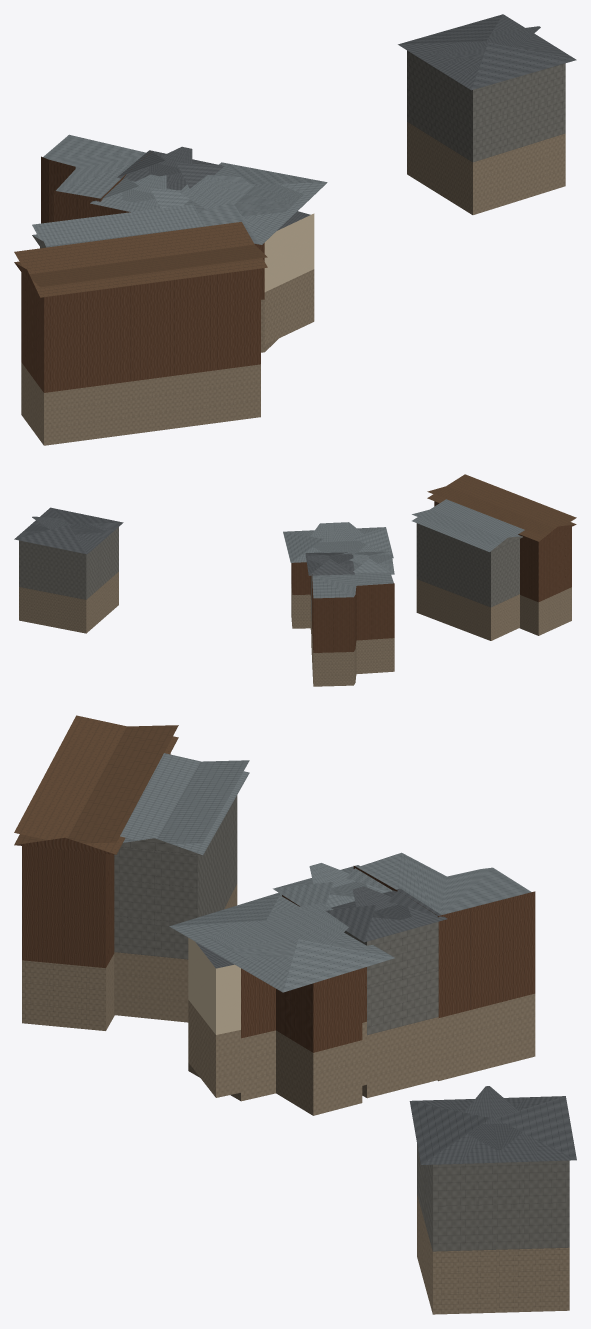
File: bld_c5_9_478.gltf
3 views of the same model, one above another, from view 1: azimuth 30°, elevation 25°; view 2: azimuth 150°, elevation 25°; view 3: azimuth 270°, elevation 25° (orthographic). The views are drawn at different scales.
Parts seen in each view (by area): view 1: bld_c5_9_478; view 2: bld_c5_9_478; view 3: bld_c5_9_478.
Part boxes in pixels (left/top/right/bottom): bld_c5_9_478: left=14, top=14, right=576, bottom=445; bld_c5_9_478: left=14, top=474, right=576, bottom=686; bld_c5_9_478: left=14, top=715, right=576, bottom=1314.
Size of the model in its own units: 68.88 by 17.2 by 41.32.
Materials: 10 (10 with a texture image).
